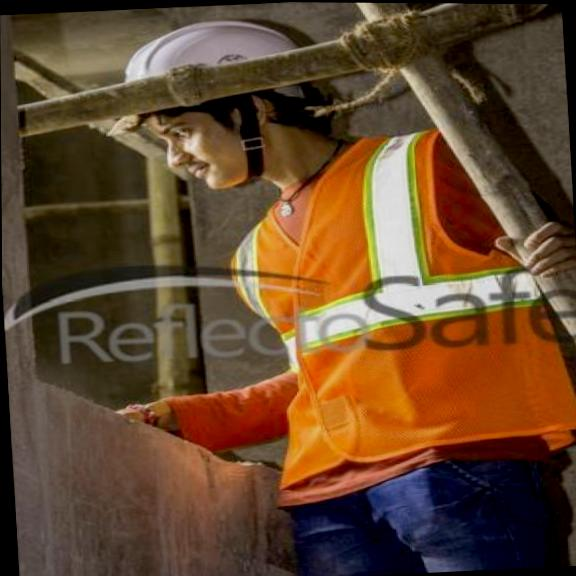safety_vest: (223, 118, 576, 456)
